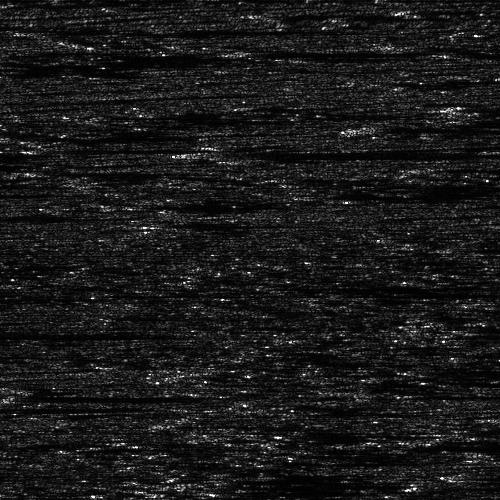rock: (0, 145, 55, 152), (0, 394, 49, 399), (451, 468, 462, 479)
shadow: (0, 329, 171, 336), (24, 145, 184, 152), (13, 394, 175, 399), (457, 468, 500, 479), (175, 223, 285, 226), (0, 406, 97, 409)
